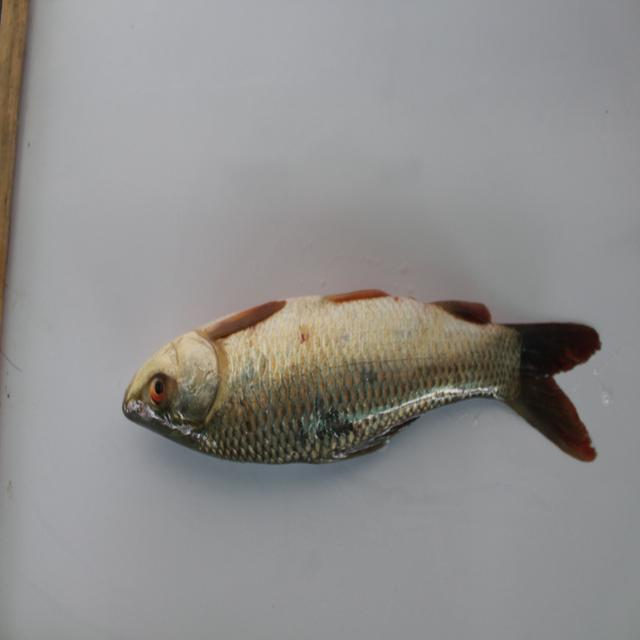Rohu: (123, 274, 611, 500)
